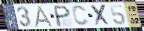3: (16, 6, 33, 28)
5: (109, 4, 126, 25)
A: (34, 5, 56, 28)
C: (71, 5, 90, 27)
P: (54, 5, 72, 28)
X: (89, 4, 112, 27)
